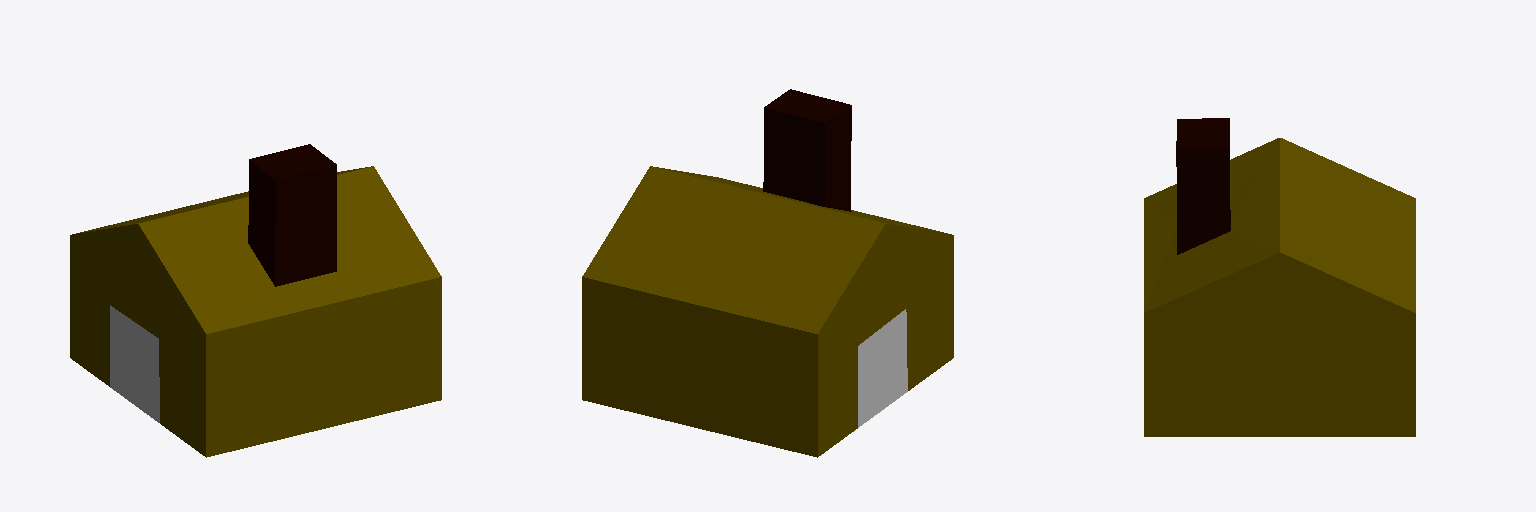
Rendered from house.obj.
The picture shows the model from 3 angles: view 1: azimuth 30°, elevation 25°; view 2: azimuth 150°, elevation 25°; view 3: azimuth 270°, elevation 25°; orthographic projection.
Visible parts, largest first — view 1: Cube; view 2: Cube; view 3: Cube.
Part boxes in pixels (left/top/right/bottom): Cube: left=70, top=144, right=441, bottom=457; Cube: left=582, top=89, right=953, bottom=457; Cube: left=1144, top=118, right=1415, bottom=436.
Size of the model in its own units: 2 by 2 by 2.